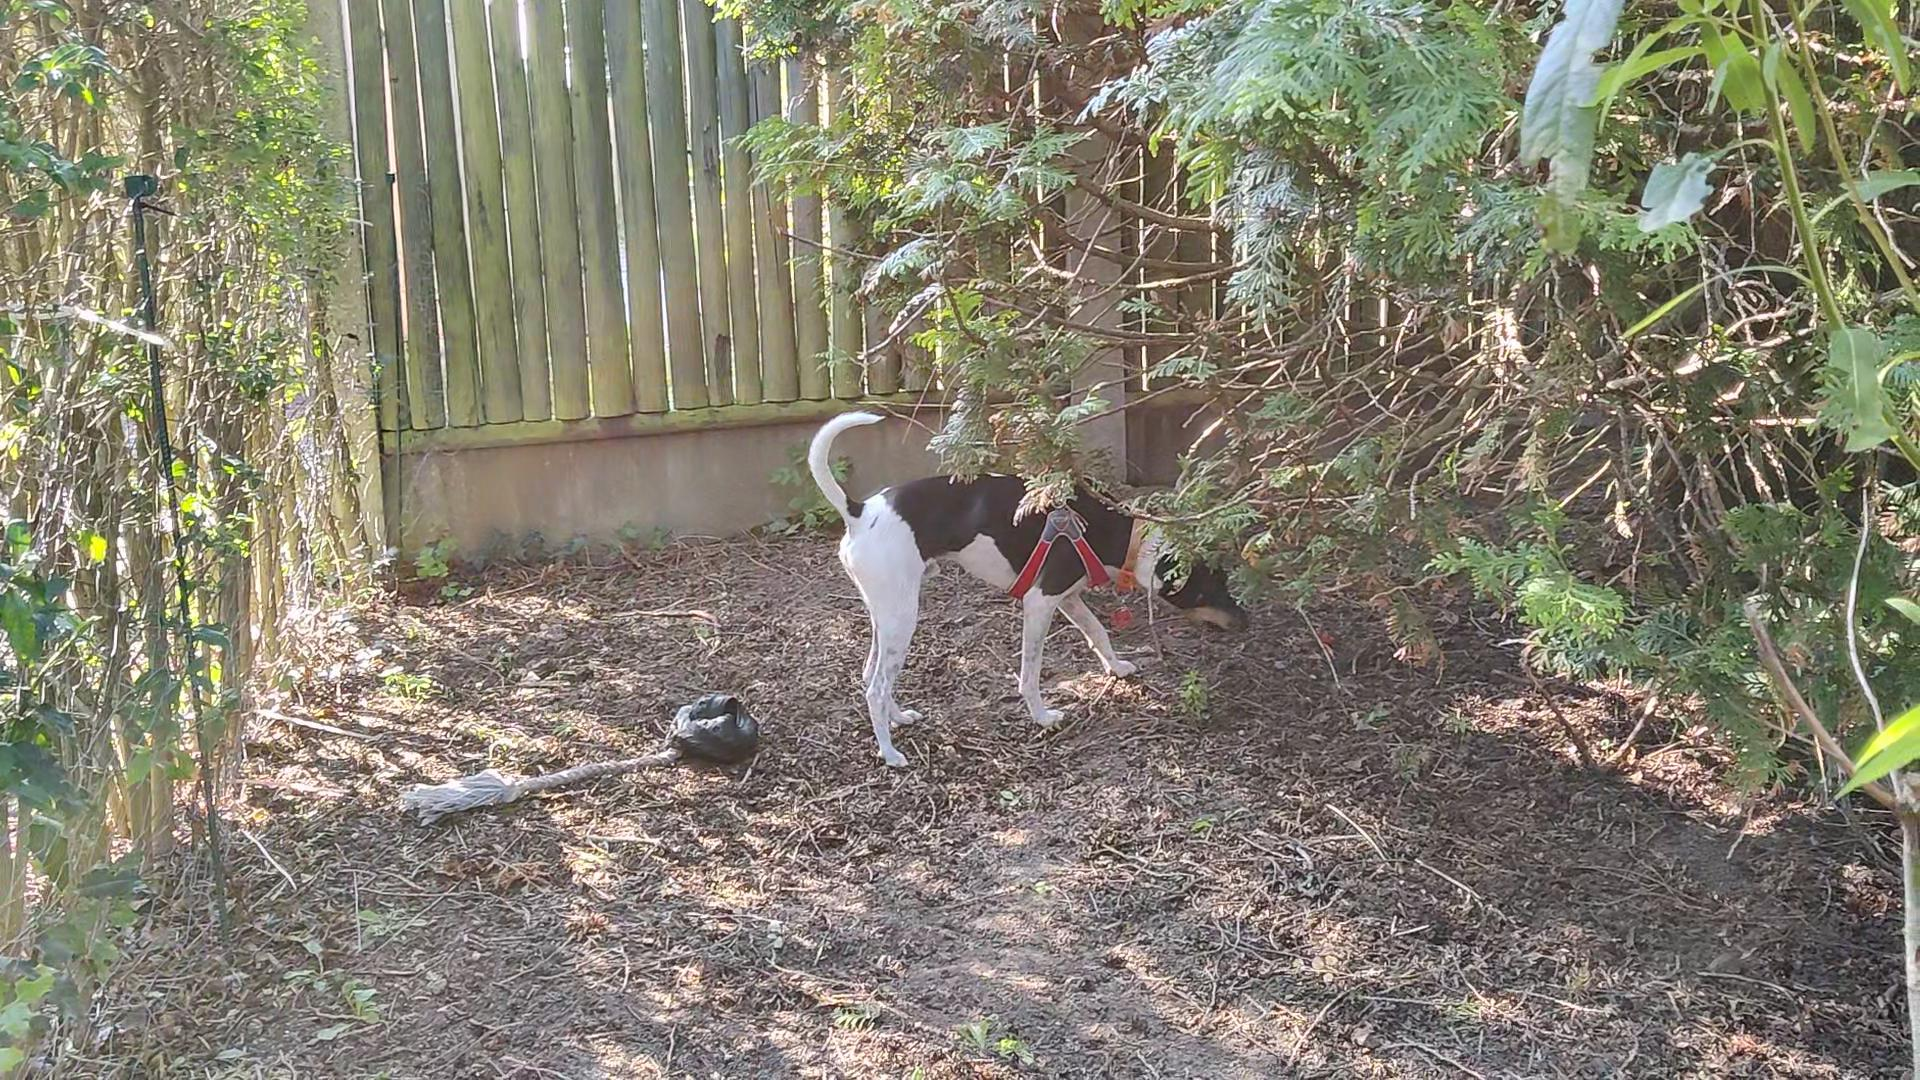Dog: (787, 396, 1251, 774)
